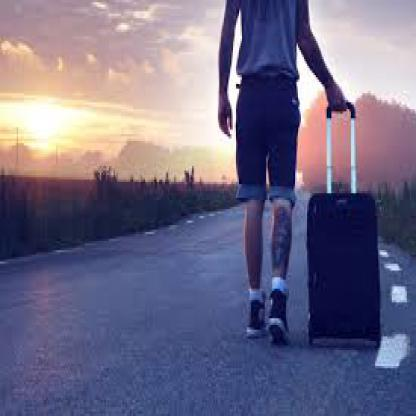maleta: (304, 177, 387, 359)
